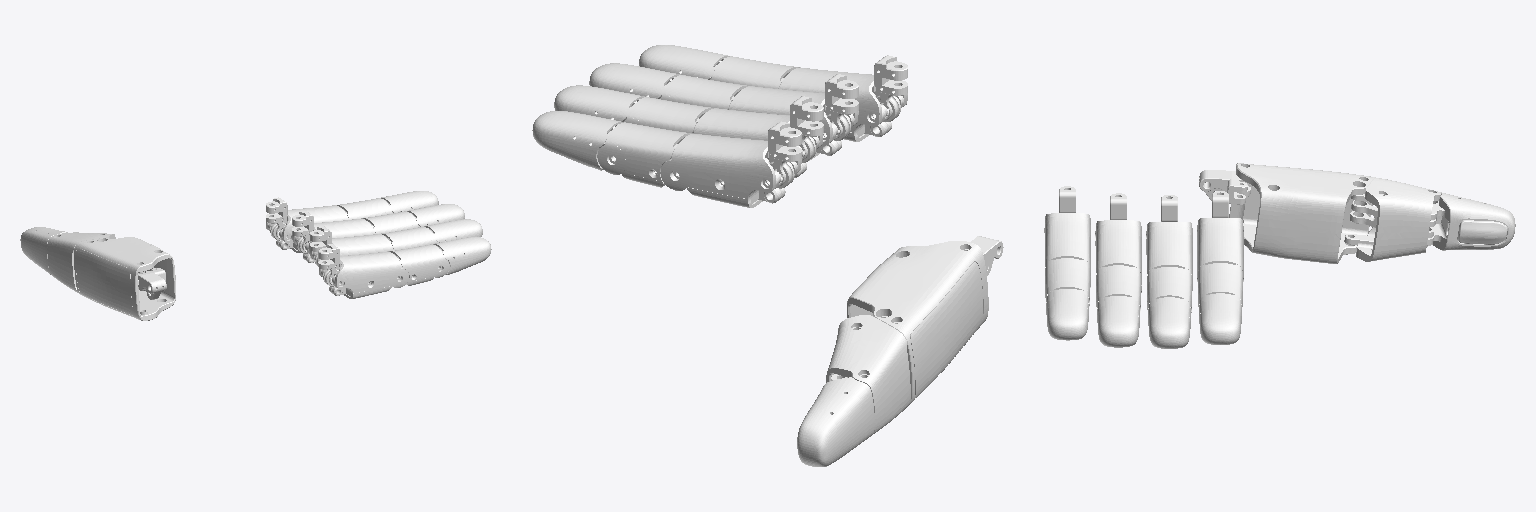
--- Render facts (derived) ---
Views: 3 orthographic renders of the robot side by side, from view 1: azimuth 30°, elevation 25°; view 2: azimuth 150°, elevation 25°; view 3: azimuth 270°, elevation 25°.
Robot: test_hand — 27 links, 26 joints (20 revolute, 6 fixed); root link base_link; default pose: all joints at 0.
Visible links, largest first — view 1: galbot_hand2_finger1_link2, galbot_hand2_finger5_link2, galbot_hand2_finger1_link3, galbot_hand2_finger5_link3, galbot_hand2_finger5_link4, galbot_hand2_finger2_link2, galbot_hand2_finger4_link2, galbot_hand2_finger1_link4, galbot_hand2_finger3_link2, galbot_hand2_finger4_link4, galbot_hand2_finger3_link4, galbot_hand2_finger2_link4 (+7 smaller); view 2: galbot_hand2_finger1_link2, galbot_hand2_finger2_link2, galbot_hand2_finger1_link3, galbot_hand2_finger1_link4, galbot_hand2_finger2_link3, galbot_hand2_finger2_link4, galbot_hand2_finger5_link2, galbot_hand2_finger4_link2, galbot_hand2_finger3_link2, galbot_hand2_finger3_link4, galbot_hand2_finger4_link4, galbot_hand2_finger5_link4 (+8 smaller); view 3: galbot_hand2_finger1_link2, galbot_hand2_finger1_link3, galbot_hand2_finger1_link4, galbot_hand2_finger2_link2, galbot_hand2_finger3_link2, galbot_hand2_finger4_link2, galbot_hand2_finger5_link2, galbot_hand2_finger2_link4, galbot_hand2_finger4_link4, galbot_hand2_finger3_link4, galbot_hand2_finger5_link4, galbot_hand2_finger5_link3 (+4 smaller).
Boxes of the visible links, bbox=[...] form: galbot_hand2_finger1_link2: bbox=[74, 237, 175, 320]; galbot_hand2_finger5_link2: bbox=[319, 251, 408, 298]; galbot_hand2_finger1_link3: bbox=[47, 232, 115, 292]; galbot_hand2_finger5_link3: bbox=[388, 244, 449, 285]; galbot_hand2_finger5_link4: bbox=[433, 237, 491, 274]; galbot_hand2_finger2_link2: bbox=[266, 205, 348, 252]; galbot_hand2_finger4_link2: bbox=[310, 234, 394, 277]; galbot_hand2_finger1_link4: bbox=[20, 227, 67, 274]; galbot_hand2_finger3_link2: bbox=[292, 219, 375, 262]; galbot_hand2_finger4_link4: bbox=[424, 219, 482, 242]; galbot_hand2_finger3_link4: bbox=[407, 204, 464, 226]; galbot_hand2_finger2_link4: bbox=[381, 191, 438, 212]; galbot_hand2_finger1_link2: bbox=[847, 241, 988, 402]; galbot_hand2_finger2_link2: bbox=[660, 134, 801, 207]; galbot_hand2_finger1_link3: bbox=[826, 315, 911, 433]; galbot_hand2_finger1_link4: bbox=[797, 374, 874, 466]; galbot_hand2_finger2_link3: bbox=[597, 122, 693, 187]; galbot_hand2_finger2_link4: bbox=[532, 111, 623, 170]; galbot_hand2_finger5_link2: bbox=[779, 67, 907, 141]; galbot_hand2_finger4_link2: bbox=[729, 86, 858, 160]; galbot_hand2_finger3_link2: bbox=[694, 108, 823, 177]; galbot_hand2_finger3_link4: bbox=[554, 85, 644, 121]; galbot_hand2_finger4_link4: bbox=[589, 63, 680, 98]; galbot_hand2_finger5_link4: bbox=[639, 45, 729, 79]; galbot_hand2_finger1_link2: bbox=[1229, 163, 1375, 263]; galbot_hand2_finger1_link3: bbox=[1344, 178, 1440, 261]; galbot_hand2_finger1_link4: bbox=[1427, 192, 1515, 250]; galbot_hand2_finger2_link2: bbox=[1197, 218, 1243, 281]; galbot_hand2_finger3_link2: bbox=[1146, 222, 1192, 290]; galbot_hand2_finger4_link2: bbox=[1095, 220, 1141, 285]; galbot_hand2_finger5_link2: bbox=[1044, 213, 1090, 275]; galbot_hand2_finger2_link4: bbox=[1199, 293, 1241, 344]; galbot_hand2_finger4_link4: bbox=[1097, 296, 1139, 347]; galbot_hand2_finger3_link4: bbox=[1148, 297, 1190, 348]; galbot_hand2_finger5_link4: bbox=[1046, 289, 1088, 340]; galbot_hand2_finger5_link3: bbox=[1045, 258, 1090, 306].
Bounding box of the posed robot: 0.1995 × 0.2091 × 0.0651 m (x, y, z).
Meshes: 21 distinct files referenced, 20 mesh visuals loaded (20 binary STL); not drawn: 1 (reference not matched to a file when rendering).

robot.urdf — test_hand:
<?xml version="1.0" ?>
<!-- =================================================================================== -->
<!-- |    This document was autogenerated by xacro from test_right_hand2.xacro         | -->
<!-- |    EDITING THIS FILE BY HAND IS NOT RECOMMENDED                                 | -->
<!-- =================================================================================== -->
<!-- 
#####################################################################################
#
# Copyright (c) 2023-2025 Galbot, Inc. All Rights Reserved.
#
# This software contains confidential and proprietary information of Galbot, Inc.
# ("Confidential Information"). You shall not disclose such Confidential Information
# and shall use it only in accordance with the terms of the license agreement you
# entered into with Galbot, Inc.
#
# UNAUTHORIZED COPYING, USE, OR DISTRIBUTION OF THIS SOFTWARE, OR ANY PORTION OR
# DERIVATIVE THEREOF, IS STRICTLY PROHIBITED. IF YOU HAVE RECEIVED THIS SOFTWARE IN
# ERROR, PLEASE NOTIFY GALBOT, INC. IMMEDIATELY AND DELETE IT FROM YOUR SYSTEM.
#
#####################################################################################
#
# Description: Xacro file for testing Galbot One right arm.
# Author: Herman Ye@Galbot, Yuhao Zeng@Galbot
#
#####################################################################################
-->
<robot name="test_hand">
  <!-- Parent link -->
  <link name="base_link"/>
  <joint name="galbot_hand2_joint" type="fixed">
    <origin rpy="0 0 0" xyz="0 0 0"/>
    <parent link="base_link"/>
    <child link="galbot_hand2_base_link"/>
  </joint>
  <link name="galbot_hand2_base_link">
    <inertial>
      <origin rpy="0 0 0" xyz="0.00669319274439873 0.0647079257607944 0.000216061632806827"/>
      <mass value="0.115777795062524"/>
      <inertia ixx="2.64174784412012E-05" ixy="-6.62394936363998E-07" ixz="8.57925508460399E-14" iyy="6.82085516622814E-06" iyz="1.87067654060068E-13" izz="2.97840007308689E-05"/>
    </inertial>
    <visual>
      <origin rpy="0 0 0" xyz="0 0 0"/>
      <geometry>
        <mesh filename="package://galbot_one_charlie_description/meshes/galbot_hand2/right_base_link.stl"/>
      </geometry>
      <material name="">
        <color rgba="1 1 1 1"/>
      </material>
    </visual>
    <collision>
      <origin rpy="0 0 0" xyz="0 0 0"/>
      <geometry>
        <mesh filename="package://galbot_one_charlie_description/meshes/galbot_hand2/right_base_link.stl"/>
      </geometry>
    </collision>
  </link>
  <link name="galbot_hand2_finger1_link1">
    <inertial>
      <origin rpy="0 0 0" xyz="0.00785830866195667 0.00132081031717753 -0.00170040097920679"/>
      <mass value="0.00153891624842907"/>
      <inertia ixx="3.96940950225938E-08" ixy="-2.25615932256004E-09" ixz="1.11534413163152E-08" iyy="7.00016180608449E-08" iyz="6.3138315664902E-10" izz="5.73024207365218E-08"/>
    </inertial>
    <visual>
      <origin rpy="0 0 0" xyz="0 0 0"/>
      <geometry>
        <mesh filename="package://galbot_one_charlie_description/meshes/galbot_hand2/right_finger1_link1.stl"/>
      </geometry>
      <material name="">
        <color rgba="1 1 1 1"/>
      </material>
    </visual>
    <collision>
      <origin rpy="0 0 0" xyz="0 0 0"/>
      <geometry>
        <mesh filename="package://galbot_one_charlie_description/meshes/galbot_hand2/right_finger1_link1.stl"/>
      </geometry>
    </collision>
  </link>
  <joint name="galbot_hand2_finger1_joint1" type="revolute">
    <origin rpy="-1.5707963267949 0 1.5707963267949" xyz="0.0555 0.028 -0.017993"/>
    <parent link="galbot_hand2_base_link"/>
    <child link="galbot_hand2_finger1_link1"/>
    <axis xyz="0 0 1"/>
    <limit effort="10" lower="0" upper="1.4454124" velocity="1.5"/>
  </joint>
  <link name="galbot_hand2_finger1_link2">
    <inertial>
      <origin rpy="0 0 0" xyz="0.0296825612273398 0.00637937974701193 8.90537326866947E-09"/>
      <mass value="0.00724797542493922"/>
      <inertia ixx="4.72588105145482E-07" ixy="7.05434272668672E-08" ixz="9.96527959923987E-14" iyy="1.35886058006843E-06" iyz="8.12618795918479E-14" izz="1.81818544514032E-06"/>
    </inertial>
    <visual>
      <origin rpy="0 0 0" xyz="0 0 0"/>
      <geometry>
        <mesh filename="package://galbot_one_charlie_description/meshes/galbot_hand2/right_finger1_link2.stl"/>
      </geometry>
      <material name="">
        <color rgba="1 1 1 1"/>
      </material>
    </visual>
    <collision>
      <origin rpy="0 0 0" xyz="0 0 0"/>
      <geometry>
        <mesh filename="package://galbot_one_charlie_description/meshes/galbot_hand2/right_finger1_link2.stl"/>
      </geometry>
    </collision>
  </link>
  <joint name="galbot_hand2_finger1_joint2" type="revolute">
    <origin rpy="-1.5708 0 0.13459" xyz="0.014916 0.0090836 0.0007"/>
    <parent link="galbot_hand2_finger1_link1"/>
    <child link="galbot_hand2_finger1_link2"/>
    <axis xyz="0 0 1"/>
    <limit effort="10" lower="0" upper="1.1961649" velocity="1.5"/>
  </joint>
  <link name="galbot_hand2_finger1_link3">
    <inertial>
      <origin rpy="0 0 0" xyz="0.0171434294263292 -0.00150490209491063 -3.38537161810593E-08"/>
      <mass value="0.00474795156463927"/>
      <inertia ixx="2.72339576566397E-07" ixy="9.31860669227148E-08" ixz="-1.87102796887988E-13" iyy="3.73288382584687E-07" iyz="2.29890430897199E-13" izz="6.22246992957631E-07"/>
    </inertial>
    <visual>
      <origin rpy="0 0 0" xyz="0 0 0"/>
      <geometry>
        <mesh filename="package://galbot_one_charlie_description/meshes/galbot_hand2/right_finger1_link3.stl"/>
      </geometry>
      <material name="">
        <color rgba="1 1 1 1"/>
      </material>
    </visual>
    <collision>
      <origin rpy="0 0 0" xyz="0 0 0"/>
      <geometry>
        <mesh filename="package://galbot_one_charlie_description/meshes/galbot_hand2/right_finger1_link3.stl"/>
      </geometry>
    </collision>
  </link>
  <joint name="galbot_hand2_finger1_joint3" type="revolute">
    <origin rpy="0 0 0" xyz="0.050801 0.0048501 0"/>
    <parent link="galbot_hand2_finger1_link2"/>
    <child link="galbot_hand2_finger1_link3"/>
    <axis xyz="0 0 1"/>
    <limit effort="10" lower="0" upper="0.9287205" velocity="1.5"/>
  </joint>
  <link name="galbot_hand2_finger1_link4">
    <inertial>
      <origin rpy="0 0 0" xyz="0.0154993886357015 0.00400208117160733 2.96682781129876E-06"/>
      <mass value="0.00507769043716497"/>
      <inertia ixx="1.26734726260522E-07" ixy="5.68384060207815E-08" ixz="-7.35166813447687E-11" iyy="4.08272576068573E-07" iyz="2.94063379928566E-11" izz="3.49536439928651E-07"/>
    </inertial>
    <visual>
      <origin rpy="0 0 0" xyz="0 0 0"/>
      <geometry>
        <mesh filename="package://galbot_one_charlie_description/meshes/galbot_hand2/right_finger1_link4.stl"/>
      </geometry>
      <material name="">
        <color rgba="1 1 1 1"/>
      </material>
    </visual>
    <collision>
      <origin rpy="0 0 0" xyz="0 0 0"/>
      <geometry>
        <mesh filename="package://galbot_one_charlie_description/meshes/galbot_hand2/right_finger1_link4.stl"/>
      </geometry>
    </collision>
  </link>
  <joint name="galbot_hand2_finger1_joint4" type="revolute">
    <origin rpy="0 0 0" xyz="0.033461 -0.010517 0"/>
    <parent link="galbot_hand2_finger1_link3"/>
    <child link="galbot_hand2_finger1_link4"/>
    <axis xyz="0 0 1"/>
    <limit effort="10" lower="0" upper="0.5928541" velocity="1.5"/>
  </joint>
  <link name="galbot_hand2_finger1_end_effector_link"/>
  <joint name="galbot_hand2_finger1_end_effector_joint" type="fixed">
    <origin rpy="0 0 -0.1663" xyz="0.023898 0.012205 0"/>
    <parent link="galbot_hand2_finger1_link4"/>
    <child link="galbot_hand2_finger1_end_effector_link"/>
    <axis xyz="0 0 0"/>
  </joint>
  <link name="galbot_hand2_finger2_link1">
    <inertial>
      <origin rpy="0 0 0" xyz="0.00382575221148437 -5.00520139917748E-09 -0.00379970728509156"/>
      <mass value="0.000889473582525137"/>
      <inertia ixx="4.0055788387694E-08" ixy="-1.56454747092938E-14" ixz="-4.38944911232398E-09" iyy="4.42763145564233E-08" iyz="-1.56506551225603E-14" izz="1.19540185771033E-08"/>
    </inertial>
    <visual>
      <origin rpy="0 0 0" xyz="0 0 0"/>
      <geometry>
        <mesh filename="package://galbot_one_charlie_description/meshes/galbot_hand2/right_finger2_link1.stl"/>
      </geometry>
      <material name="">
        <color rgba="1 1 1 1"/>
      </material>
    </visual>
    <collision>
      <origin rpy="0 0 0" xyz="0 0 0"/>
      <geometry>
        <mesh filename="package://galbot_one_charlie_description/meshes/galbot_hand2/right_finger2_link1.stl"/>
      </geometry>
    </collision>
  </link>
  <joint name="galbot_hand2_finger2_joint1" type="revolute">
    <origin rpy="3.14159265358979 0 0" xyz="0.1333 0.0339 -0.0010932"/>
    <parent link="galbot_hand2_base_link"/>
    <child link="galbot_hand2_finger2_link1"/>
    <axis xyz="0 0 1"/>
    <limit effort="10" lower="-0.34906585" upper="0.34906585" velocity="1.5"/>
  </joint>
  <link name="galbot_hand2_finger2_link2">
    <inertial>
      <origin rpy="0 0 0" xyz="0.0199166121070694 0.00452784516743088 -0.000303877808472956"/>
      <mass value="0.00346834967811122"/>
      <inertia ixx="7.47882545674778E-08" ixy="-6.37999082906235E-08" ixz="-8.29444375307048E-09" iyy="6.28681619362609E-07" iyz="-4.51118940783356E-10" izz="6.89244310692068E-07"/>
    </inertial>
    <visual>
      <origin rpy="0 0 0" xyz="0 0 0"/>
      <geometry>
        <mesh filename="package://galbot_one_charlie_description/meshes/galbot_hand2/right_finger2_link2.stl"/>
      </geometry>
      <material name="">
        <color rgba="1 1 1 1"/>
      </material>
    </visual>
    <collision>
      <origin rpy="0 0 0" xyz="0 0 0"/>
      <geometry>
        <mesh filename="package://galbot_one_charlie_description/meshes/galbot_hand2/right_finger2_link2.stl"/>
      </geometry>
    </collision>
  </link>
  <joint name="galbot_hand2_finger2_joint2" type="revolute">
    <origin rpy="1.5708 0 0" xyz="0.0051 0 0.0044"/>
    <parent link="galbot_hand2_finger2_link1"/>
    <child link="galbot_hand2_finger2_link2"/>
    <axis xyz="0 0 1"/>
    <limit effort="10" lower="0" upper="1.38" velocity="1.5"/>
  </joint>
  <link name="galbot_hand2_finger2_link3">
    <inertial>
      <origin rpy="0 0 0" xyz="0.0131841948791407 0.000998392629334753 -4.43775828881318E-05"/>
      <mass value="0.0024033066914253"/>
      <inertia ixx="9.21336766794171E-08" ixy="-6.73938389627146E-09" ixz="9.1749183458728E-09" iyy="2.61350743499042E-07" iyz="3.14135392902418E-09" izz="2.21858731660162E-07"/>
    </inertial>
    <visual>
      <origin rpy="0 0 0" xyz="0 0 0"/>
      <geometry>
        <mesh filename="package://galbot_one_charlie_description/meshes/galbot_hand2/right_finger2_link3.stl"/>
      </geometry>
      <material name="">
        <color rgba="1 1 1 1"/>
      </material>
    </visual>
    <collision>
      <origin rpy="0 0 0" xyz="0 0 0"/>
      <geometry>
        <mesh filename="package://galbot_one_charlie_description/meshes/galbot_hand2/right_finger2_link3.stl"/>
      </geometry>
    </collision>
  </link>
  <joint name="galbot_hand2_finger2_joint3" type="revolute">
    <origin rpy="0 0 0" xyz="0.0377 0.0057104 0"/>
    <parent link="galbot_hand2_finger2_link2"/>
    <child link="galbot_hand2_finger2_link3"/>
    <axis xyz="0 0 1"/>
    <limit effort="10" lower="0" upper="1.4089799999999997" velocity="1.5"/>
    <!-- <mimic joint="${name}_finger2_joint2" multiplier="1.021" offset="0"/> -->
  </joint>
  <link name="galbot_hand2_finger2_link4">
    <inertial>
      <origin rpy="0 0 0" xyz="0.0164013380865539 -0.000465187190866685 2.14248312126186E-06"/>
      <mass value="0.00413805450374487"/>
      <inertia ixx="1.20869219589554E-07" ixy="4.29725372551645E-08" ixz="8.81359189277611E-10" iyy="3.17049521027888E-07" iyz="-4.42801512142374E-10" izz="2.55560236671059E-07"/>
    </inertial>
    <visual>
      <origin rpy="0 0 0" xyz="0 0 0"/>
      <geometry>
        <mesh filename="package://galbot_one_charlie_description/meshes/galbot_hand2/right_finger2_link4.stl"/>
      </geometry>
      <material name="">
        <color rgba="1 1 1 1"/>
      </material>
    </visual>
    <collision>
      <origin rpy="0 0 0" xyz="0 0 0"/>
      <geometry>
        <mesh filename="package://galbot_one_charlie_description/meshes/galbot_hand2/right_finger2_link4.stl"/>
      </geometry>
    </collision>
  </link>
  <joint name="galbot_hand2_finger2_joint4" type="revolute">
    <origin rpy="0 0 0" xyz="0.0265 0 0"/>
    <parent link="galbot_hand2_finger2_link3"/>
    <child link="galbot_hand2_finger2_link4"/>
    <axis xyz="0 0 1"/>
    <limit effort="10" lower="0" upper="1.2074958599999999" velocity="1.5"/>
    <!-- <mimic joint="${name}_finger2_joint3" multiplier="0.857" offset="0"/> -->
  </joint>
  <link name="galbot_hand2_finger2_end_effector_link"/>
  <joint name="galbot_hand2_finger2_end_effector_joint" type="fixed">
    <origin rpy="0 0 -0.12217" xyz="0.021611 0.0063638 0"/>
    <parent link="galbot_hand2_finger2_link4"/>
    <child link="galbot_hand2_finger2_end_effector_link"/>
    <axis xyz="0 0 0"/>
  </joint>
  <link name="galbot_hand2_finger3_link1">
    <inertial>
      <origin rpy="0 0 0" xyz="0.00382575221148439 -5.00520138009553E-09 -0.00379970728509157"/>
      <mass value="0.000889473582525137"/>
      <inertia ixx="4.00557883876939E-08" ixy="-1.56454747119987E-14" ixz="-4.389449112324E-09" iyy="4.42763145564233E-08" iyz="-1.56506551400994E-14" izz="1.19540185771032E-08"/>
    </inertial>
    <visual>
      <origin rpy="0 0 0" xyz="0 0 0"/>
      <geometry>
        <mesh filename="package://galbot_one_charlie_description/meshes/galbot_hand2/right_finger3_link1.stl"/>
      </geometry>
      <material name="">
        <color rgba="1 1 1 1"/>
      </material>
    </visual>
    <collision>
      <origin rpy="0 0 0" xyz="0 0 0"/>
      <geometry>
        <mesh filename="package://galbot_one_charlie_description/meshes/galbot_hand2/right_finger3_link1.stl"/>
      </geometry>
    </collision>
  </link>
  <joint name="galbot_hand2_finger3_joint1" type="revolute">
    <origin rpy="3.14159265358979 0 0" xyz="0.1373 0.0113 -0.0010932"/>
    <parent link="galbot_hand2_base_link"/>
    <child link="galbot_hand2_finger3_link1"/>
    <axis xyz="0 0 1"/>
    <limit effort="10" lower="-0.34906585" upper="0.34906585" velocity="1.5"/>
  </joint>
  <link name="galbot_hand2_finger3_link2">
    <inertial>
      <origin rpy="0 0 0" xyz="0.0199166121070694 0.00452784516743091 -0.000303877808472977"/>
      <mass value="0.00346834967811122"/>
      <inertia ixx="7.47882545674527E-08" ixy="-6.37999082906228E-08" ixz="-8.29444375307045E-09" iyy="6.28681619362609E-07" iyz="-4.51118940783307E-10" izz="6.89244310692043E-07"/>
    </inertial>
    <visual>
      <origin rpy="0 0 0" xyz="0 0 0"/>
      <geometry>
        <mesh filename="package://galbot_one_charlie_description/meshes/galbot_hand2/right_finger3_link2.stl"/>
      </geometry>
      <material name="">
        <color rgba="1 1 1 1"/>
      </material>
    </visual>
    <collision>
      <origin rpy="0 0 0" xyz="0 0 0"/>
      <geometry>
        <mesh filename="package://galbot_one_charlie_description/meshes/galbot_hand2/right_finger3_link2.stl"/>
      </geometry>
    </collision>
  </link>
  <joint name="galbot_hand2_finger3_joint2" type="revolute">
    <origin rpy="1.5708 0 0" xyz="0.0051 0 0.0044"/>
    <parent link="galbot_hand2_finger3_link1"/>
    <child link="galbot_hand2_finger3_link2"/>
    <axis xyz="0 0 1"/>
    <limit effort="10" lower="0" upper="1.38" velocity="1.5"/>
  </joint>
  <link name="galbot_hand2_finger3_link3">
    <inertial>
      <origin rpy="0 0 0" xyz="0.0131841948791407 0.000998392629334779 -4.43775828881474E-05"/>
      <mass value="0.00240330669142528"/>
      <inertia ixx="9.21336766794013E-08" ixy="-6.73938389627144E-09" ixz="9.17491834587276E-09" iyy="2.61350743499041E-07" iyz="3.14135392902408E-09" izz="2.21858731660145E-07"/>
    </inertial>
    <visual>
      <origin rpy="0 0 0" xyz="0 0 0"/>
      <geometry>
        <mesh filename="package://galbot_one_charlie_description/meshes/galbot_hand2/right_finger3_link3.stl"/>
      </geometry>
      <material name="">
        <color rgba="1 1 1 1"/>
      </material>
    </visual>
    <collision>
      <origin rpy="0 0 0" xyz="0 0 0"/>
      <geometry>
        <mesh filename="package://galbot_one_charlie_description/meshes/galbot_hand2/right_finger3_link3.stl"/>
      </geometry>
    </collision>
  </link>
  <joint name="galbot_hand2_finger3_joint3" type="revolute">
    <origin rpy="0 0 0" xyz="0.0377 0.0057104 0"/>
    <parent link="galbot_hand2_finger3_link2"/>
    <child link="galbot_hand2_finger3_link3"/>
    <axis xyz="0 0 1"/>
    <limit effort="10" lower="0" upper="1.4089799999999997" velocity="1.5"/>
    <!-- <mimic joint="${name}_finger3_joint2" multiplier="1.021" offset="0"/> -->
  </joint>
  <link name="galbot_hand2_finger3_link4">
    <inertial>
      <origin rpy="0 0 0" xyz="0.0164013380865539 -0.000465187190866657 2.14248312124625E-06"/>
      <mass value="0.00413805450374486"/>
      <inertia ixx="1.20869219589559E-07" ixy="4.29725372551635E-08" ixz="8.81359189277604E-10" iyy="3.17049521027887E-07" iyz="-4.42801512142455E-10" izz="2.55560236671063E-07"/>
    </inertial>
    <visual>
      <origin rpy="0 0 0" xyz="0 0 0"/>
      <geometry>
        <mesh filename="package://galbot_one_charlie_description/meshes/galbot_hand2/right_finger3_link4.stl"/>
      </geometry>
      <material name="">
        <color rgba="1 1 1 1"/>
      </material>
    </visual>
    <collision>
      <origin rpy="0 0 0" xyz="0 0 0"/>
      <geometry>
        <mesh filename="package://galbot_one_charlie_description/meshes/galbot_hand2/right_finger3_link4.stl"/>
      </geometry>
    </collision>
  </link>
  <joint name="galbot_hand2_finger3_joint4" type="revolute">
    <origin rpy="0 0 0" xyz="0.0265 0 0"/>
    <parent link="galbot_hand2_finger3_link3"/>
    <child link="galbot_hand2_finger3_link4"/>
    <axis xyz="0 0 1"/>
    <limit effort="10" lower="0" upper="1.2074958599999999" velocity="1.5"/>
    <!-- <mimic joint="${name}_finger3_joint3" multiplier="0.857" offset="0"/> -->
  </joint>
  <link name="galbot_hand2_finger3_end_effector_link"/>
  <joint name="galbot_hand2_finger3_end_effector_joint" type="fixed">
    <origin rpy="0 0 -0.12217" xyz="0.021611 0.0063638 0"/>
    <parent link="galbot_hand2_finger3_link4"/>
    <child link="galbot_hand2_finger3_end_effector_link"/>
    <axis xyz="0 0 0"/>
  </joint>
  <link name="galbot_hand2_finger4_link1">
    <inertial>
      <origin rpy="0 0 0" xyz="0.00382575221148436 -5.00520139223859E-09 -0.00379970728509158"/>
      <mass value="0.000889473582525136"/>
      <inertia ixx="4.00557883876939E-08" ixy="-1.5645474711456E-14" ixz="-4.389449112324E-09" iyy="4.42763145564233E-08" iyz="-1.56506551307135E-14" izz="1.19540185771033E-08"/>
    </inertial>
    <visual>
      <origin rpy="0 0 0" xyz="0 0 0"/>
      <geometry>
        <mesh filename="package://galbot_one_charlie_description/meshes/galbot_hand2/right_finger4_link1.stl"/>
      </geometry>
      <material name="">
        <color rgba="1 1 1 1"/>
      </material>
    </visual>
    <collision>
      <origin rpy="0 0 0" xyz="0 0 0"/>
      <geometry>
        <mesh filename="package://galbot_one_charlie_description/meshes/galbot_hand2/right_finger4_link1.stl"/>
      </geometry>
    </collision>
  </link>
  <joint name="galbot_hand2_finger4_joint1" type="revolute">
    <origin rpy="3.14159265358979 0 0" xyz="0.1358 -0.0113 -0.0010932"/>
    <parent link="galbot_hand2_base_link"/>
    <child link="galbot_hand2_finger4_link1"/>
    <axis xyz="0 0 1"/>
    <limit effort="10" lower="-0.34906585" upper="0.34906585" velocity="1.5"/>
  </joint>
  <link name="galbot_hand2_finger4_link2">
    <inertial>
      <origin rpy="0 0 0" xyz="0.0199166121070693 0.00452784516743089 -0.000303877808472974"/>
      <mass value="0.00346834967811122"/>
      <inertia ixx="7.47882545674251E-08" ixy="-6.37999082906559E-08" ixz="-8.29444375306938E-09" iyy="6.28681619362607E-07" iyz="-4.51118940783663E-10" izz="6.89244310692013E-07"/>
    </inertial>
    <visual>
      <origin rpy="0 0 0" xyz="0 0 0"/>
      <geometry>
        <mesh filename="package://galbot_one_charlie_description/meshes/galbot_hand2/right_finger4_link2.stl"/>
      </geometry>
      <material name="">
        <color rgba="1 1 1 1"/>
      </material>
    </visual>
    <collision>
      <origin rpy="0 0 0" xyz="0 0 0"/>
      <geometry>
        <mesh filename="package://galbot_one_charlie_description/meshes/galbot_hand2/right_finger4_link2.stl"/>
      </geometry>
    </collision>
  </link>
  <joint name="galbot_hand2_finger4_joint2" type="revolute">
    <origin rpy="1.5708 0 0" xyz="0.0051 0 0.0044"/>
    <parent link="galbot_hand2_finger4_link1"/>
    <child link="galbot_hand2_finger4_link2"/>
    <axis xyz="0 0 1"/>
    <limit effort="10" lower="0" upper="1.38" velocity="1.5"/>
  </joint>
  <link name="galbot_hand2_finger4_link3">
    <inertial>
      <origin rpy="0 0 0" xyz="0.0131841948791406 0.00099839262933478 -4.43775828881492E-05"/>
      <mass value="0.00240330669142529"/>
      <inertia ixx="9.21336766794016E-08" ixy="-6.73938389627171E-09" ixz="9.17491834587272E-09" iyy="2.61350743499041E-07" iyz="3.14135392902422E-09" izz="2.21858731660146E-07"/>
    </inertial>
    <visual>
      <origin rpy="0 0 0" xyz="0 0 0"/>
      <geometry>
        <mesh filename="package://galbot_one_charlie_description/meshes/galbot_hand2/right_finger4_link3.stl"/>
      </geometry>
      <material name="">
        <color rgba="1 1 1 1"/>
      </material>
    </visual>
    <collision>
      <origin rpy="0 0 0" xyz="0 0 0"/>
      <geometry>
        <mesh filename="package://galbot_one_charlie_description/meshes/galbot_hand2/right_finger4_link3.stl"/>
      </geometry>
    </collision>
  </link>
  <joint name="galbot_hand2_finger4_joint3" type="revolute">
    <origin rpy="0 0 0" xyz="0.0377 0.0057104 0"/>
    <parent link="galbot_hand2_finger4_link2"/>
    <child link="galbot_hand2_finger4_link3"/>
    <axis xyz="0 0 1"/>
    <limit effort="10" lower="0" upper="1.4089799999999997" velocity="1.5"/>
    <!-- <mimic joint="${name}_finger4_joint2" multiplier="1.021" offset="0"/> -->
  </joint>
  <link name="galbot_hand2_finger4_link4">
    <inertial>
      <origin rpy="0 0 0" xyz="0.0164013380865539 -0.00046518719086673 2.14248312125319E-06"/>
      <mass value="0.00413805450374487"/>
      <inertia ixx="1.20869219589552E-07" ixy="4.29725372551659E-08" ixz="8.81359189277507E-10" iyy="3.17049521027888E-07" iyz="-4.42801512142327E-10" izz="2.55560236671057E-07"/>
    </inertial>
    <visual>
      <origin rpy="0 0 0" xyz="0 0 0"/>
      <geometry>
        <mesh filename="package://galbot_one_charlie_description/meshes/galbot_hand2/right_finger4_link4.stl"/>
      </geometry>
      <material name="">
        <color rgba="1 1 1 1"/>
      </material>
    </visual>
    <collision>
      <origin rpy="0 0 0" xyz="0 0 0"/>
      <geometry>
        <mesh filename="package://galbot_one_charlie_description/meshes/galbot_hand2/right_finger4_link4.stl"/>
      </geometry>
    </collision>
  </link>
  <joint name="galbot_hand2_finger4_joint4" type="revolute">
    <origin rpy="0 0 0" xyz="0.0265 0 0"/>
    <parent link="galbot_hand2_finger4_link3"/>
    <child link="galbot_hand2_finger4_link4"/>
    <axis xyz="0 0 1"/>
    <limit effort="10" lower="0" upper="1.2074958599999999" velocity="1.5"/>
    <!-- <mimic joint="${name}_finger4_joint3" multiplier="0.857" offset="0"/> -->
  </joint>
  <link name="galbot_hand2_finger4_end_effector_link"/>
  <joint name="galbot_hand2_finger4_end_effector_joint" type="fixed">
    <origin rpy="0 0 -0.12217" xyz="0.021611 0.0063638 0"/>
    <parent link="galbot_hand2_finger4_link4"/>
    <child link="galbot_hand2_finger4_end_effector_link"/>
    <axis xyz="0 0 0"/>
  </joint>
  <link name="galbot_hand2_finger5_link1">
    <inertial>
      <origin rpy="0 0 0" xyz="0.00382575221148435 -5.00520141305527E-09 -0.00379970728509157"/>
      <mass value="0.000889473582525137"/>
      <inertia ixx="4.00557883876941E-08" ixy="-1.56454747049389E-14" ixz="-4.389449112324E-09" iyy="4.42763145564233E-08" iyz="-1.56506551150176E-14" izz="1.19540185771034E-08"/>
    </inertial>
    <visual>
      <origin rpy="0 0 0" xyz="0 0 0"/>
      <geometry>
        <mesh filename="package://galbot_one_charlie_description/meshes/galbot_hand2/right_finger5_link1.stl"/>
      </geometry>
      <material name="">
        <color rgba="1 1 1 1"/>
      </material>
    </visual>
    <collision>
      <origin rpy="0 0 0" xyz="0 0 0"/>
      <geometry>
        <mesh filename="package://galbot_one_charlie_description/meshes/galbot_hand2/right_finger5_link1.stl"/>
      </geometry>
    </collision>
  </link>
  <joint name="galbot_hand2_finger5_joint1" type="revolute">
    <origin rpy="3.14159265358979 0 0" xyz="0.1283 -0.0338999999999999 -0.00109315386890013"/>
    <parent link="galbot_hand2_base_link"/>
    <child link="galbot_hand2_finger5_link1"/>
    <axis xyz="0 0 1"/>
    <limit effort="10" lower="-0.34906585" upper="0.34906585" velocity="1.5"/>
  </joint>
  <link name="galbot_hand2_finger5_link2">
    <inertial>
      <origin rpy="0 0 0" xyz="0.0199166121070693 0.00452784516743085 -0.000303877808472956"/>
      <mass value="0.00346834967811122"/>
      <inertia ixx="7.47882545675031E-08" ixy="-6.37999082906573E-08" ixz="-8.29444375306939E-09" iyy="6.28681619362609E-07" iyz="-4.51118940783567E-10" izz="6.89244310692093E-07"/>
    </inertial>
    <visual>
      <origin rpy="0 0 0" xyz="0 0 0"/>
      <geometry>
        <mesh filename="package://galbot_one_charlie_description/meshes/galbot_hand2/right_finger5_link2.stl"/>
      </geometry>
      <material name="">
        <color rgba="1 1 1 1"/>
      </material>
    </visual>
    <collision>
      <origin rpy="0 0 0" xyz="0 0 0"/>
      <geometry>
        <mesh filename="package://galbot_one_charlie_description/meshes/galbot_hand2/right_finger5_link2.stl"/>
      </geometry>
    </collision>
  </link>
  <joint name="galbot_hand2_finger5_joint2" type="revolute">
    <origin rpy="1.5708 0 0" xyz="0.0051 0 0.0044"/>
    <parent link="galbot_hand2_finger5_link1"/>
    <child link="galbot_hand2_finger5_link2"/>
    <axis xyz="0 0 1"/>
    <limit effort="10" lower="0" upper="1.38" velocity="1.5"/>
  </joint>
  <link name="galbot_hand2_finger5_link3">
    <inertial>
      <origin rpy="0 0 0" xyz="0.0131841948791407 0.000998392629334792 -4.43775828881179E-05"/>
      <mass value="0.00240330669142528"/>
      <inertia ixx="9.21336766793983E-08" ixy="-6.73938389627147E-09" ixz="9.17491834587271E-09" iyy="2.61350743499041E-07" iyz="3.14135392902411E-09" izz="2.21858731660142E-07"/>
    </inertial>
    <visual>
      <origin rpy="0 0 0" xyz="0 0 0"/>
      <geometry>
        <mesh filename="package://galbot_one_charlie_description/meshes/galbot_hand2/right_finger5_link3.stl"/>
      </geometry>
      <material name="">
        <color rgba="1 1 1 1"/>
      </material>
    </visual>
    <collision>
      <origin rpy="0 0 0" xyz="0 0 0"/>
      <geometry>
        <mesh filename="package://galbot_one_charlie_description/meshes/galbot_hand2/right_finger5_link3.stl"/>
      </geometry>
    </collision>
  </link>
  <joint name="galbot_hand2_finger5_joint3" type="revolute">
    <origin rpy="0 0 0" xyz="0.0377 0.0057104 0"/>
    <parent link="galbot_hand2_finger5_link2"/>
    <child link="galbot_hand2_finger5_link3"/>
    <axis xyz="0 0 1"/>
    <limit effort="10" lower="0" upper="1.4089799999999997" velocity="1.5"/>
    <!-- <mimic joint="${name}_finger5_joint2" multiplier="1.021" offset="0"/> -->
  </joint>
  <link name="galbot_hand2_finger5_link4">
    <inertial>
      <origin rpy="0 0 0" xyz="0.016401338086554 -0.000465187190866656 2.1424831212688E-06"/>
      <mass value="0.00413805450374488"/>
      <inertia ixx="1.20869219589565E-07" ixy="4.29725372551634E-08" ixz="8.81359189277933E-10" iyy="3.17049521027888E-07" iyz="-4.42801512142623E-10" izz="2.5556023667107E-07"/>
    </inertial>
    <visual>
      <origin rpy="0 0 0" xyz="0 0 0"/>
      <geometry>
        <mesh filename="package://galbot_one_charlie_description/meshes/galbot_hand2/right_finger5_link4.stl"/>
      </geometry>
      <material name="">
        <color rgba="1 1 1 1"/>
      </material>
    </visual>
    <collision>
      <origin rpy="0 0 0" xyz="0 0 0"/>
      <geometry>
        <mesh filename="package://galbot_one_charlie_description/meshes/galbot_hand2/right_finger5_link4.stl"/>
      </geometry>
    </collision>
  </link>
  <joint name="galbot_hand2_finger5_joint4" type="revolute">
    <origin rpy="0 0 0" xyz="0.0265 0 0"/>
    <parent link="galbot_hand2_finger5_link3"/>
    <child link="galbot_hand2_finger5_link4"/>
    <axis xyz="0 0 1"/>
    <limit effort="10" lower="0" upper="1.2074958599999999" velocity="1.5"/>
    <!-- <mimic joint="${name}_finger5_joint3" multiplier="0.857" offset="0"/> -->
  </joint>
  <link name="galbot_hand2_finger5_end_effector_link"/>
  <joint name="galbot_hand2_finger5_end_effector_joint" type="fixed">
    <origin rpy="0 0 -0.12217" xyz="0.021611 0.0063638 0"/>
    <parent link="galbot_hand2_finger5_link4"/>
    <child link="galbot_hand2_finger5_end_effector_link"/>
    <axis xyz="0 0 0"/>
  </joint>
</robot>
